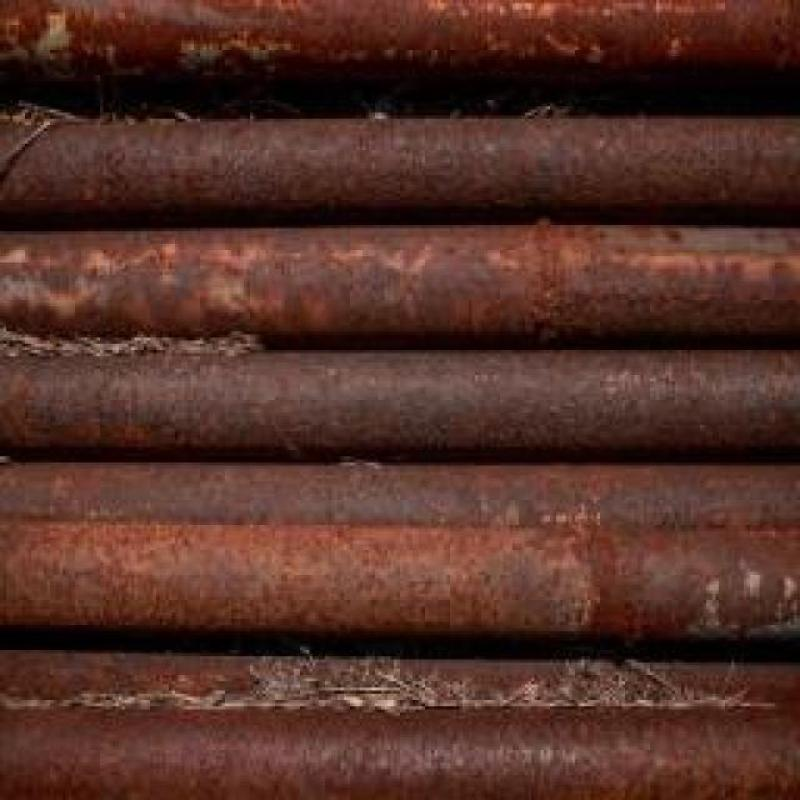corrosion: (20, 15, 794, 785)
